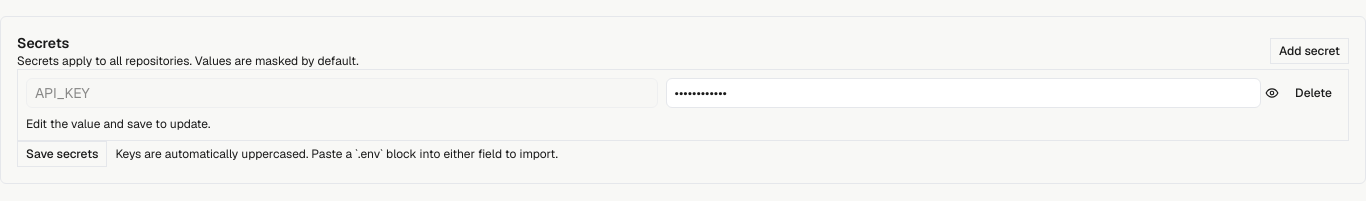
SecretsEditor › renders saved secret values masked by default and revealable
Check: the password field named "Value for API_KEY" holds "super-secret", box [666, 78, 1261, 108]
What coordinates should you click on to do the following:
click the button named "Show value"
I would click on:
 (1272, 93)
Its box is [1265, 86, 1279, 100].
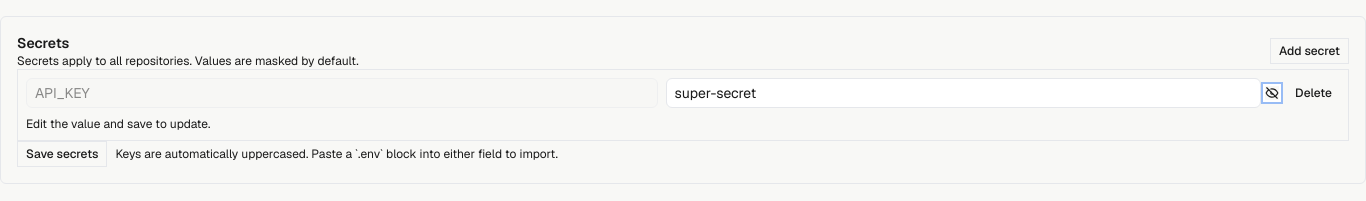
Check: the field named "Value for API_KEY" shows its text, box [666, 78, 1261, 108]
What coordinates should you click on to do the following:
click the button named "Hide value"
I would click on:
 (1272, 93)
Its box is [1265, 86, 1279, 100].
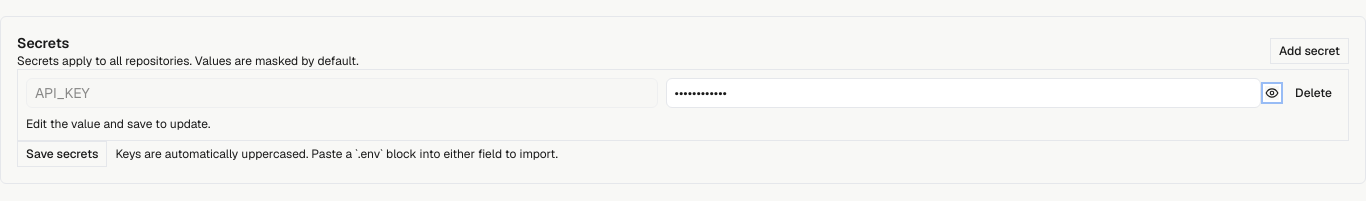
Check: the password field named "Value for API_KEY" hides its text, box [666, 78, 1261, 108]
